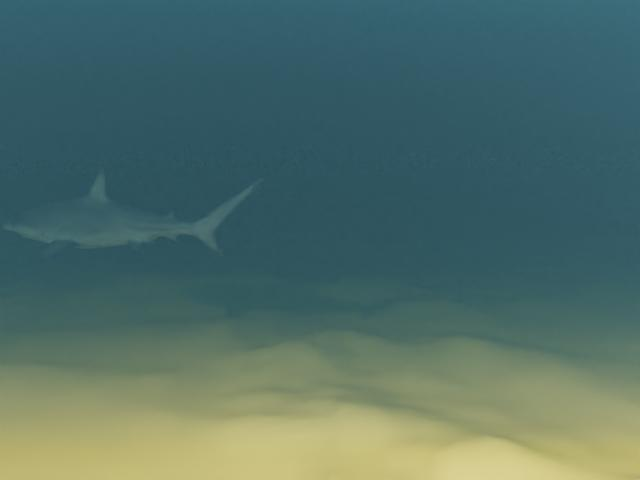Carribean Shark.001: (2, 169, 265, 264)
